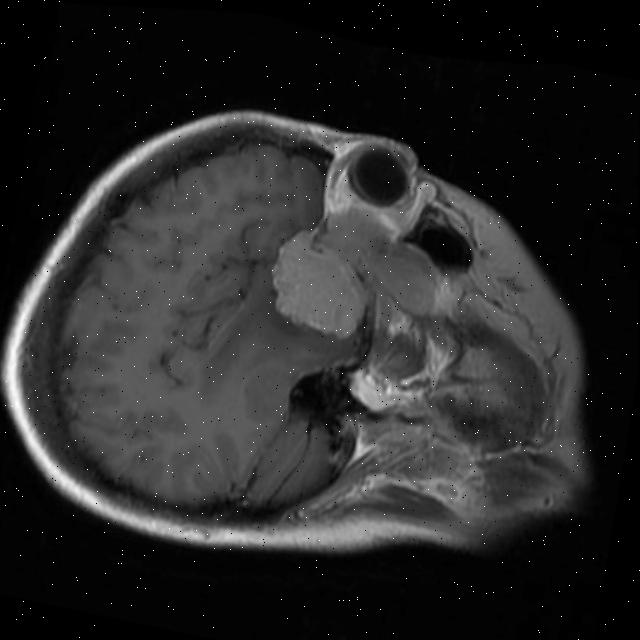Meningioma: (262, 220, 376, 344)
